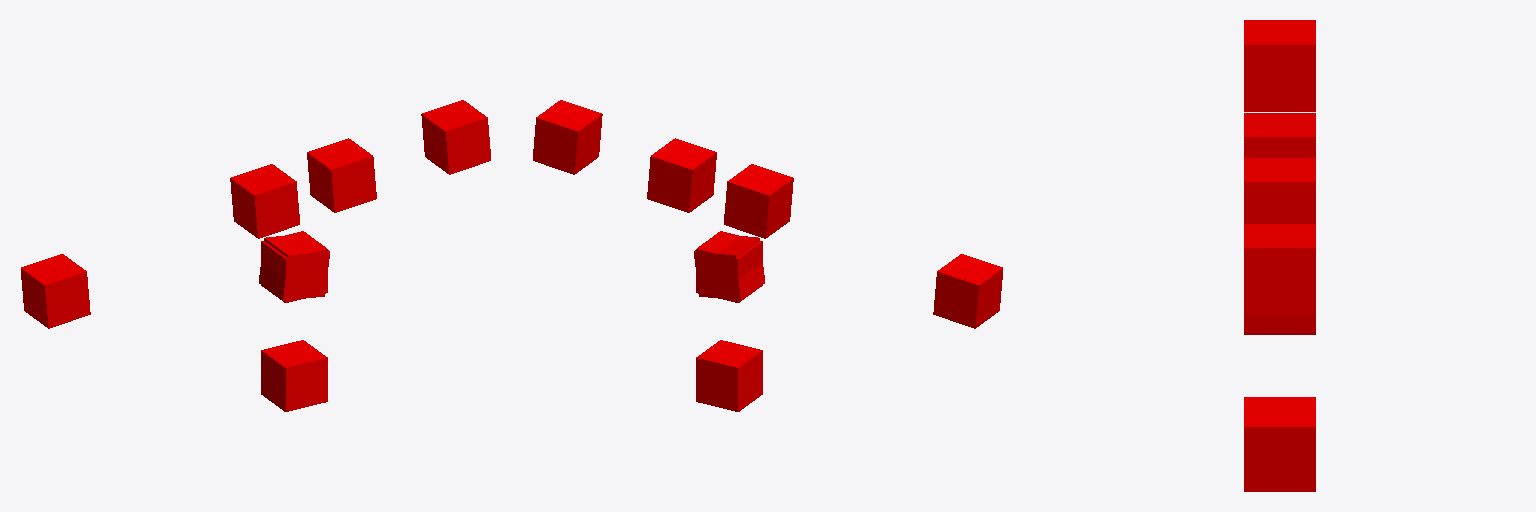
robot.urdf — piper:
<?xml version="1.0" encoding="utf-8"?>
<!-- This URDF was automatically created by SolidWorks to URDF Exporter! Originally created by Stephen Brawner (brawner@gmail.com) 
     Commit Version: 1.6.0-4-g7f85cfe  Build Version: 1.6.7995.38578
     For more information, please see http://wiki.ros.org/sw_urdf_exporter -->
<robot
  name="piper">
  <link name="dummy_link"/>
  <joint name="base_to_dummy" type="fixed">
    <parent link="dummy_link"/>
    <child link="base_link"/>
    <origin xyz="0 0 0" rpy="0 0 0"/>
  </joint>

  <link
    name="base_link">
    <inertial>
      <origin 
        xyz="-0.00473641164191482 2.56829134630247E-05 0.041451518036016" 
        rpy="0 0 0" />
      <mass 
        value="1.02" />
      <inertia 
        ixx="0.00267433" 
        ixy="-0.00000073" 
        ixz="-0.00017389" 
        iyy="0.00282612" 
        iyz="0.0000004" 
        izz="0.00089624" />
    </inertial>
    <visual>
      <origin
        xyz="0 0 0"
        rpy="0 0 0" />
      <geometry>
        <box size="0.05 0.05 0.05"/>
      </geometry>
      <material name="red">
        <color rgba="1 0 0 1"/>
      </material>
    </visual>
    <collision>
      <origin
        xyz="0 0 0"
        rpy="0 0 0" />
      <geometry>
        <mesh
          filename="../meshes/base_link.STL" />
      </geometry>
      <material name="red">
        <color rgba="1 0 0 1"/>
      </material>
    </collision>
  </link>
  
  <link
    name="link1">
    <inertial>
      <origin 
        xyz="0.000121504734057468 0.000104632162460536 -0.00438597309559853" 
        rpy="0 0 0" />
      <mass 
        value="0.71" />
      <inertia 
        ixx="0.00048916" 
        ixy="-0.00000036" 
        ixz="-0.00000224" 
        iyy="0.00040472" 
        iyz="-0.00000242" 
        izz="0.00043982" />
    </inertial>
    <visual>
      <origin
        xyz="0 0 0"
        rpy="0 0 0" />
      <geometry>
        <box size="0.05 0.05 0.05"/>
      </geometry>
      <material name="red">
        <color rgba="1 0 0 1"/>
      </material>
    </visual>
    <collision>
      <origin
        xyz="0 0 0"
        rpy="0 0 0" />
      <geometry>
        <mesh
          filename="../meshes/link1.STL" />
      </geometry>
      <material name="red">
        <color rgba="1 0 0 1"/>
      </material>
    </collision>
  </link>
  <joint
    name="joint1"
    type="revolute">
    <origin
      xyz="0 0 0.123"
      rpy="0 0 0" />
    <parent
      link="base_link" />
    <child
      link="link1" />
    <axis
      xyz="0 0 1" />
    <limit
      lower="-2.618"
      upper="2.618"
      effort="100"
      velocity="5" />
  </joint>
  <link
    name="link2">
    <inertial>
      <origin 
        xyz="0.198666145229743 -0.010926924140076 0.00142121714502687" 
        rpy="0 0 0" />
      <mass 
        value="1.17" />
      <inertia 
        ixx="0.00116918" 
        ixy="-0.00180037" 
        ixz="0.00025146" 
        iyy="0.06785384" 
        iyz="-0.00000455" 
        izz="0.06774489" />
    </inertial>
    <visual>
      <origin
        xyz="0 0 0"
        rpy="0 0 0" />
      <geometry>
        <box size="0.05 0.05 0.05"/>
      </geometry>
      <material name="red">
        <color rgba="1 0 0 1"/>
      </material>
    </visual>
    <collision>
      <origin
        xyz="0 0 0"
        rpy="0 0 0" />
      <geometry>
        <mesh
          filename="../meshes/link2.STL" />
      </geometry>
      <material name="red">
        <color rgba="1 0 0 1"/>
      </material>
    </collision>
  </link>
  <joint
    name="joint2"
    type="revolute">
    <origin
      xyz="0 0 0"
      rpy="1.5708 -0.1359 -3.1416" />
      <!-- rpy="1.5708 -0.10095-0.03490659 -3.1416" /> -->
    <parent
      link="link1" />
    <child
      link="link2" />
    <axis
      xyz="0 0 1" />
    <limit
      lower="0"
      upper="3.14"
      effort="100"
      velocity="5" />
  </joint>
  <link
    name="link3">
    <inertial>
      <origin 
        xyz="-0.0202737662122021 -0.133914995944595 -0.000458682652737356" 
        rpy="0 0 0" />
      <mass 
        value="0.5" />
      <inertia 
        ixx="0.01361711" 
        ixy="0.00165794" 
        ixz="-0.00000048" 
        iyy="0.00045024" 
        iyz="-0.00000045" 
        izz="0.01380322" />
    </inertial>
    <visual>
      <origin
        xyz="0 0 0"
        rpy="0 0 0" />
      <geometry>
        <box size="0.05 0.05 0.05"/>
      </geometry>
      <material name="red">
        <color rgba="1 0 0 1"/>
      </material>
    </visual>
    <collision>
      <origin
        xyz="0 0 0"
        rpy="0 0 0" />
      <geometry>
        <mesh
          filename="../meshes/link3.STL" />
      </geometry>
      <material name="red">
        <color rgba="1 0 0 1"/>
      </material>
    </collision>
  </link>
  <joint
    name="joint3"
    type="revolute">
    <origin
      xyz="0.28503 0 0"
      rpy="0 0 -1.7939" />
      <!-- rpy="0 0 -1.759-0.03490659" /> -->
    <parent
      link="link2" />
    <child
      link="link3" />
    <axis
      xyz="0 0 1" />
    <limit
      lower="-2.967"
      upper="0"
      effort="100"
      velocity="5" />
  </joint>
  <link
    name="link4">
    <inertial>
      <origin 
        xyz="-9.66635791618542E-05 0.000876064475651083 -0.00496880904640868" 
        rpy="0 0 0" />
      <mass 
        value="0.38" />
      <inertia 
        ixx="0.00018501" 
        ixy="0.00000054" 
        ixz="0.00000120" 
        iyy="0.00018965" 
        iyz="-0.00000841" 
        izz="0.00015484" />
    </inertial>
    <visual>
      <origin
        xyz="0 0 0"
        rpy="0 0 0" />
      <geometry>
        <box size="0.05 0.05 0.05"/>
      </geometry>
      <material name="red">
        <color rgba="1 0 0 1"/>
      </material>
    </visual>
    <collision>
      <origin
        xyz="0 0 0"
        rpy="0 0 0" />
      <geometry>
        <mesh
          filename="../meshes/link4.STL" />
      </geometry>
      <material name="red">
        <color rgba="1 0 0 1"/>
      </material>
    </collision>
  </link>
  <joint
    name="joint4"
    type="revolute">
    <origin
      xyz="-0.021984 -0.25075 0"
      rpy="1.5708 0 0" />
    <parent
      link="link3" />
    <child
      link="link4" />
    <axis
      xyz="0 0 1" />
    <limit
      lower="-1.745"
      upper="1.745"
      effort="100"
      velocity="5" />
  </joint>
  <link
    name="link5">
    <inertial>
      <origin 
        xyz="-4.10554118924211E-05 -0.0566486692356075 -0.0037205791677906" 
        rpy="0 0 0" />
      <mass 
        value="0.383" />
      <inertia 
        ixx="0.00166169" 
        ixy="0.00000006" 
        ixz="-0.00000007" 
        iyy="0.00018510" 
        iyz="0.00001026" 
        izz="0.00164321" />
    </inertial>
    <visual>
      <origin
        xyz="0 0 0"
        rpy="0 0 0" />
      <geometry>
        <box size="0.05 0.05 0.05"/>
      </geometry>
      <material name="red">
        <color rgba="1 0 0 1"/>
      </material>
    </visual>
    <collision>
      <origin
        xyz="0 0 0"
        rpy="0 0 0" />
      <geometry>
        <mesh
          filename="../meshes/link5.STL" />
      </geometry>
      <material name="red">
        <color rgba="1 0 0 1"/>
      </material>
    </collision>
  </link>
  <joint
    name="joint5"
    type="revolute">
    <origin
      xyz="0 0 0"
      rpy="-1.5708 0 0" />
    <parent
      link="link4" />
    <child
      link="link5" />
    <axis
      xyz="0 0 1" />
    <limit
      lower="-1.22"
      upper="1.22"
      effort="100"
      velocity="5" />
  </joint>
  <link
    name="link6">
    <inertial>
      <origin 
        xyz="-8.82590762930069E-05 9.0598378529832E-06 -0.002" 
        rpy="0 0 0" />
      <mass 
        value="0.007" />
      <inertia 
        ixx="5.73015540542155E-07" 
        ixy="-1.98305403089247E-22" 
        ixz="-7.2791893904596E-23" 
        iyy="5.73015540542155E-07" 
        iyz="-3.4146026640245E-24" 
        izz="1.06738869138926E-06" />
    </inertial>
    <visual>
      <origin
        xyz="0 0 0"
        rpy="0 0 0" />
      <geometry>
        <box size="0.05 0.05 0.05"/>
      </geometry>
      <material name="red">
        <color rgba="1 0 0 1"/>
      </material>
    </visual>
    <collision>
      <origin
        xyz="0 0 0"
        rpy="0 0 0" />
      <geometry>
        <mesh
          filename="../meshes/link6.STL" />
      </geometry>
      <material name="red">
        <color rgba="1 0 0 1"/>
      </material>
    </collision>
  </link>
  <joint
    name="joint6"
    type="revolute">
    <origin
      xyz="8.8259E-05 -0.091 0"
      rpy="1.5708 0 0" />
    <parent
      link="link5" />
    <child
      link="link6" />
    <axis
      xyz="0 0 1" />
    <limit
      lower="-2.0944"
      upper="2.0944"
      effort="100"
      velocity="3" />
  </joint>
  <link
    name="gripper_base">
    <inertial>
      <origin
        xyz="-0.000183807162235591 8.05033155577911E-05 0.0321436689908876"
        rpy="0 0 0" />
      <mass
        value="0.45" />
      <inertia
        ixx="0.00092934"
        ixy="0.00000034"
        ixz="-0.00000738"
        iyy="0.00071447"
        iyz="0.00000005"
        izz="0.00039442" />
    </inertial>
    <visual>
      <origin
        xyz="0 0 0"
        rpy="0 0 0" />
      <geometry>
        <box size="0.05 0.05 0.05"/>
      </geometry>
      <material name="red">
        <color rgba="1 0 0 1"/>
      </material>
    </visual>
    <collision>
      <origin
        xyz="0 0 0"
        rpy="0 0 0" />
      <geometry>
        <mesh
          filename="../meshes/gripper_base.STL" />
      </geometry>
      <material name="red">
        <color rgba="1 0 0 1"/>
      </material>
    </collision>
  </link> 
  <joint
    name="joint6_to_gripper_base"
    type="fixed">
    <origin
      xyz="0 0 0"
      rpy="0 0 0" />
    <parent
      link="link6" />
    <child
      link="gripper_base" />
  </joint>
  <link
    name="link7">
    <inertial>
      <origin
        xyz="0.00065123185041968 -0.0491929869131989 0.00972258769184025"
        rpy="0 0 0" />
      <mass
        value="0.025" />
      <inertia
        ixx="0.00007371"
        ixy="-0.00000113"
        ixz="0.00000021"
        iyy="0.00000781"
        iyz="-0.00001372"
        izz="0.0000747" />
    </inertial>
    <visual>
      <origin
        xyz="0 0 0"
        rpy="0 0 0" />
      <geometry>
        <box size="0.05 0.05 0.05"/>
      </geometry>
      <material name="red">
        <color rgba="1 0 0 1"/>
      </material>
    </visual>
    <collision>
      <origin
        xyz="0 0 0"
        rpy="0 0 0" />
      <geometry>
        <mesh
          filename="../meshes/link7.STL" />
      </geometry>
      <material name="red">
        <color rgba="1 0 0 1"/>
      </material>
    </collision>
  </link>

  <joint name="joint7" type="prismatic">
    <origin xyz="0 0 0.1358" rpy="1.5708 0 0" />
    <parent link="gripper_base" />
    <child link="link7" />
    <axis xyz="0 0 1" />
    <limit lower="0" upper="0.035" effort="10" velocity="1" />
  </joint>
  
  <link
    name="link8">
    <inertial>
      <origin
        xyz="0.000651231850419722 -0.0491929869131991 0.00972258769184024"
        rpy="0 0 0" />
      <mass
        value="0.025" />
      <inertia
        ixx="0.00007371"
        ixy="-0.00000113"
        ixz="0.00000021"
        iyy="0.00000781"
        iyz="-0.00001372"
        izz="0.0000747" />
    </inertial>
    <visual>
      <origin
        xyz="0 0 0"
        rpy="0 0 0" />
      <geometry>
        <box size="0.05 0.05 0.05"/>
      </geometry>
      <material name="red">
        <color rgba="1 0 0 1"/>
      </material>
    </visual>
    <collision>
      <origin
        xyz="0 0 0"
        rpy="0 0 0" />
      <geometry>
        <mesh
          filename="../meshes/link8.STL" />
      </geometry>
      <material name="red">
        <color rgba="1 0 0 1"/>
      </material>
    </collision>
  </link>

  <joint name="joint8" type="prismatic">
    <origin xyz="0 0 0.1358" rpy="1.5708 0 3.14159" /> 
    <parent link="gripper_base" />
    <child link="link8" />
    <axis xyz="0 0 1" /> 
    <limit lower="0" upper="0.035" effort="10" velocity="1" /> 
  </joint>
</robot>

--- What the picture shows (computed from the rendered views, not written in the file) ---
Views: 3 orthographic renders of the robot side by side, from view 1: azimuth 30°, elevation 25°; view 2: azimuth 150°, elevation 25°; view 3: azimuth 270°, elevation 25°.
Robot: piper — 11 links, 10 joints (6 revolute, 2 prismatic, 2 fixed); root link dummy_link; default pose: all joints at 0.
Links seen in each view (by area): view 1: base_link, link3, link6, link4, link2, link7, link1, link8, link5; view 2: base_link, link3, link6, link5, link1, link2, link7, link8, link4; view 3: base_link, link3, link6, link7, link8, link4, link1, link5.
Link boxes in pixels (left/top/right/bottom): base_link: left=261, top=340, right=327, bottom=411; link3: left=21, top=254, right=90, bottom=328; link6: left=307, top=138, right=376, bottom=212; link4: left=231, top=164, right=299, bottom=237; link2: left=259, top=236, right=329, bottom=300; link7: left=422, top=100, right=490, bottom=173; link1: left=261, top=231, right=327, bottom=302; link8: left=421, top=111, right=487, bottom=174; link5: left=230, top=178, right=296, bottom=238; base_link: left=696, top=340, right=762, bottom=411; link3: left=933, top=254, right=1002, bottom=328; link6: left=647, top=138, right=716, bottom=212; link5: left=724, top=164, right=792, bottom=237; link1: left=696, top=231, right=762, bottom=302; link2: left=694, top=236, right=764, bottom=300; link7: left=536, top=108, right=602, bottom=174; link8: left=533, top=100, right=601, bottom=173; link4: left=727, top=172, right=793, bottom=238; base_link: left=1244, top=397, right=1315, bottom=491; link3: left=1244, top=20, right=1315, bottom=111; link6: left=1244, top=158, right=1315, bottom=223; link7: left=1263, top=224, right=1315, bottom=314; link8: left=1244, top=224, right=1286, bottom=314; link4: left=1244, top=113, right=1315, bottom=157; link1: left=1244, top=315, right=1315, bottom=332; link5: left=1244, top=113, right=1314, bottom=157.
Bounding box of the posed robot: 0.528 × 0.05 × 0.2771 m (x, y, z).
Geometry: primitives only (box / cylinder / sphere), no mesh files.
